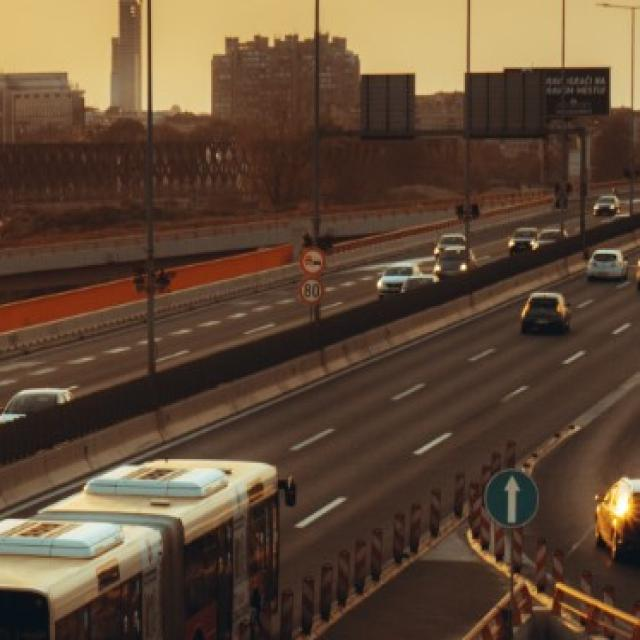bus: (0, 457, 295, 640)
car: (590, 474, 640, 562), (519, 292, 570, 334), (376, 262, 421, 294), (434, 245, 474, 281), (587, 248, 628, 282), (508, 226, 540, 255), (592, 194, 619, 217)
